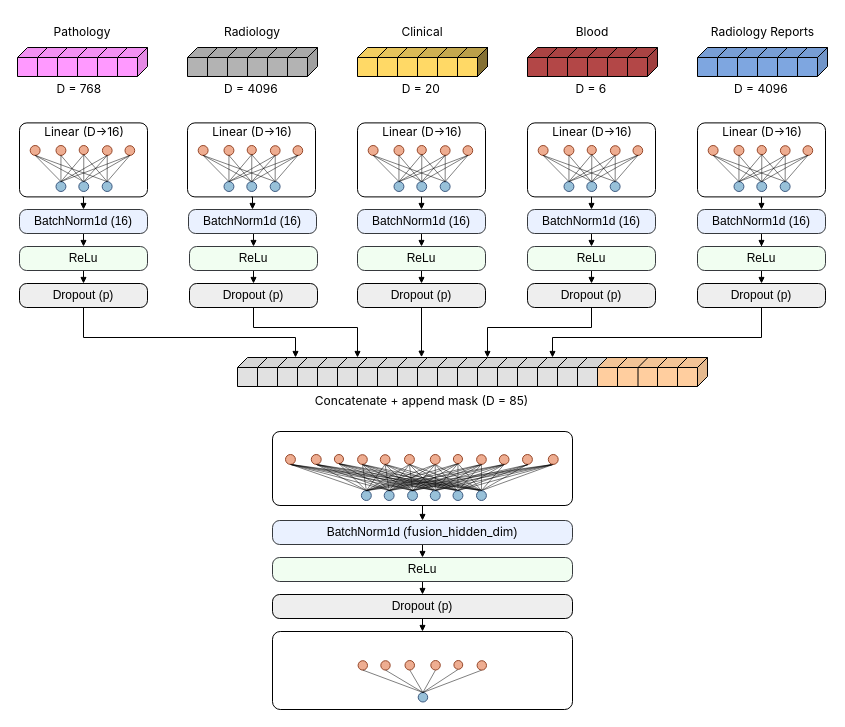
Some shapes in this 845 by 727 pixel diagram are drawn without their labels. The centre of each missing label's shape, as x and y in pixels:
"Linear ( fusion_hidden_dim →1)" belongs at (422,670).
"Linear (85 →fusion_hidden_dim {32,64})" belongs at (422,468).
